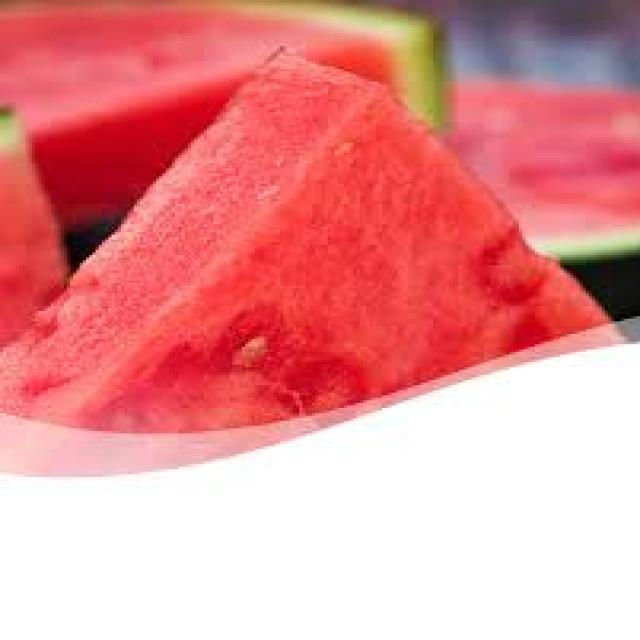watermelon: (0, 40, 627, 474), (0, 0, 452, 245)
